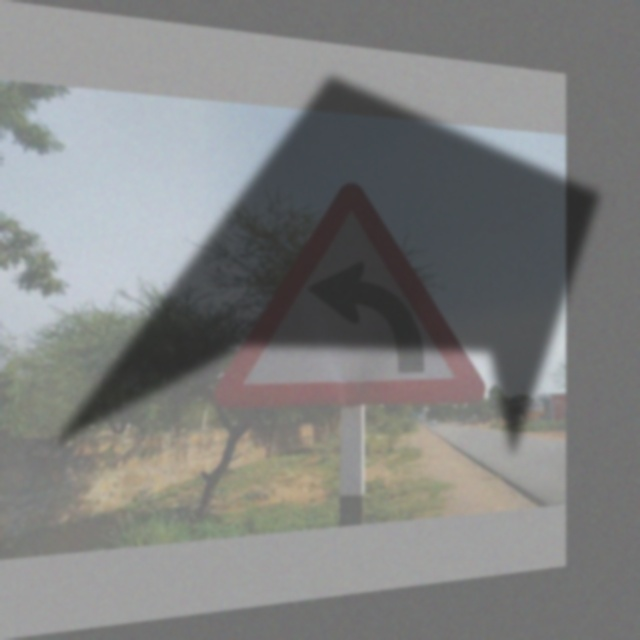Left_Hand_Curve: (234, 177, 484, 413)
